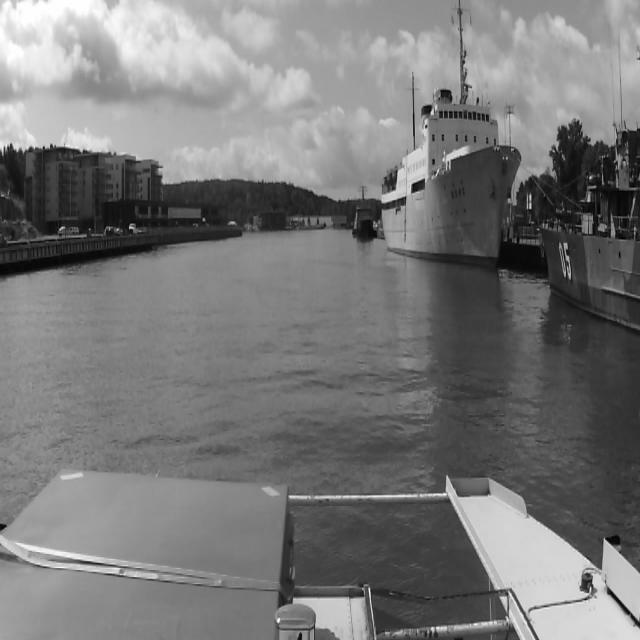ship: (381, 91, 523, 279), (538, 132, 634, 332), (356, 185, 374, 240)
